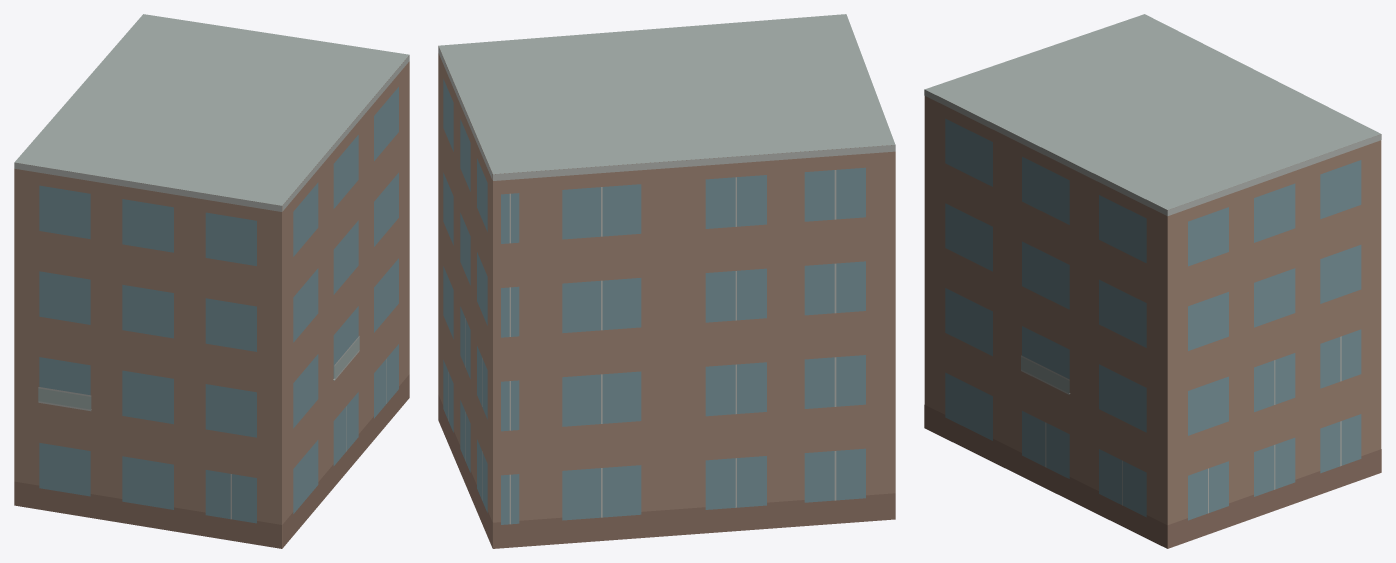
The model's file is survey-upis-32747073.glb.
3 views of the same model, side by side, from view 1: azimuth 30°, elevation 25°; view 2: azimuth 150°, elevation 25°; view 3: azimuth 270°, elevation 25° (orthographic). The views are drawn at different scales.
Visible parts, largest first — view 1: survey-upis-32747073.tmp; view 2: survey-upis-32747073.tmp; view 3: survey-upis-32747073.tmp.
Boxes of the visible parts, x1,y1,x2,y2 form: survey-upis-32747073.tmp: (14,14,409,548); survey-upis-32747073.tmp: (438,14,895,548); survey-upis-32747073.tmp: (924,14,1381,548).
Bounding box in the file's own units: 16.64 × 13.4 × 16.39.
